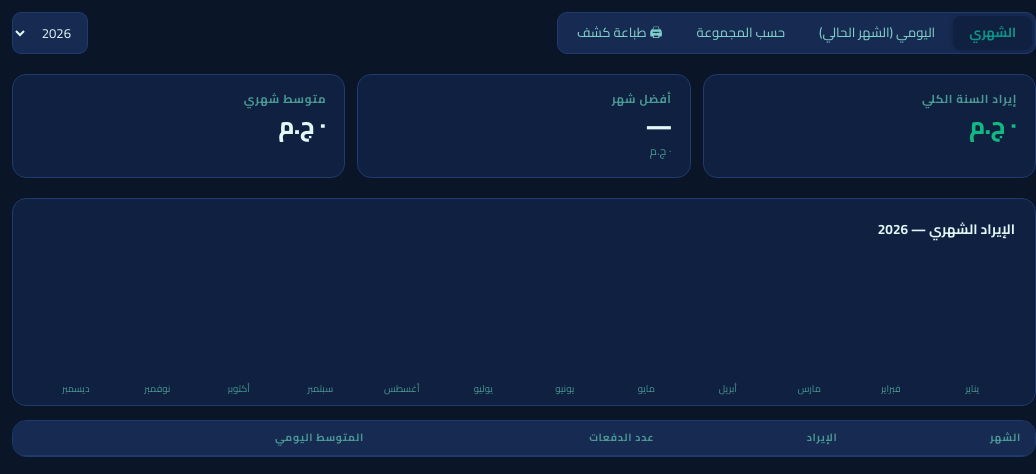
Test case: PaymentReports — by-group payment rate is year-aware (MEDIUM-A Finding 1) › does not count a payment from the same month number in a past year toward the current year's payment rate
Click the button "حسب المجموعة": click(741, 33) [680, 16, 801, 50]
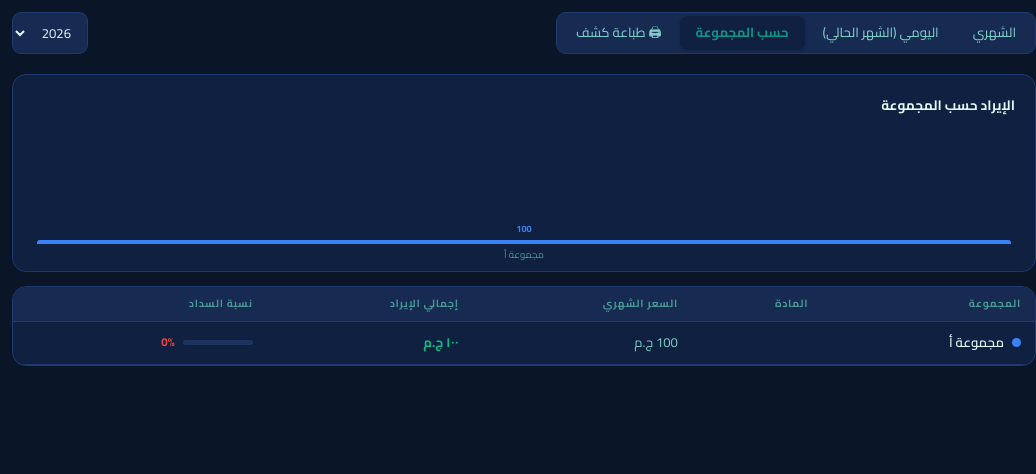
Result: the text "0%" is shown at [161, 334, 175, 352]
